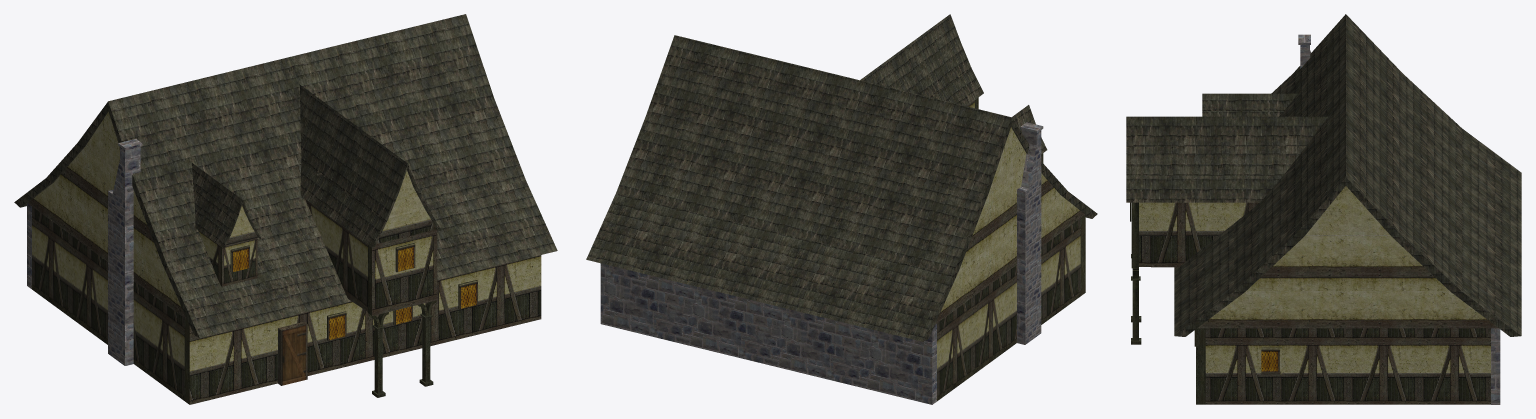
File: tavern.obj
3 views of the same model, side by side, from view 1: azimuth 30°, elevation 25°; view 2: azimuth 150°, elevation 25°; view 3: azimuth 270°, elevation 25° (orthographic). The views are drawn at different scales.
Visible parts, largest first — view 1: Mesh.097_Model_107, Mesh.104_Model_108, Mesh.105_Model_109, Mesh.096_Model_106, Mesh.125_Model_8, Mesh.006_Model_21, Mesh.118_Model_3, Mesh.011_Model_133, Mesh.064_Model_13, Mesh.059_Model_14, Mesh.121_Model_4, Mesh.058_Model_15 (+18 smaller); view 2: Mesh.117_Model_0, Mesh.116_Model_1, Mesh.119_Model_2, Mesh.005_Model_20, Mesh.125_Model_8, Mesh.118_Model_3, Mesh.011_Model_133, Mesh.121_Model_4, Mesh.064_Model_13, Mesh.059_Model_14, Mesh.120_Model_5, Mesh.058_Model_15 (+3 smaller); view 3: Mesh.017_Model_36, Mesh.116_Model_1, Mesh.119_Model_2, Mesh.117_Model_0, Mesh.123_Model_6, Mesh.097_Model_107, Mesh.122_Model_7, Mesh.062_Model_11, Mesh.007_Model_22, Mesh.104_Model_108, Mesh.065_Model_12, Mesh.105_Model_109 (+9 smaller).
Boxes of the visible parts, bbox=[...] form: Mesh.097_Model_107: bbox=[108, 14, 493, 185]; Mesh.104_Model_108: bbox=[132, 98, 525, 267]; Mesh.105_Model_109: bbox=[162, 180, 557, 337]; Mesh.096_Model_106: bbox=[184, 255, 541, 404]; Mesh.125_Model_8: bbox=[32, 207, 184, 399]; Mesh.006_Model_21: bbox=[368, 229, 437, 315]; Mesh.118_Model_3: bbox=[27, 183, 186, 319]; Mesh.011_Model_133: bbox=[108, 189, 133, 365]; Mesh.064_Model_13: bbox=[299, 84, 407, 192]; Mesh.059_Model_14: bbox=[300, 122, 398, 221]; Mesh.121_Model_4: bbox=[53, 147, 161, 261]; Mesh.058_Model_15: bbox=[300, 160, 386, 247]; Mesh.117_Model_0: bbox=[646, 35, 1011, 197]; Mesh.116_Model_1: bbox=[616, 116, 988, 274]; Mesh.119_Model_2: bbox=[586, 193, 958, 341]; Mesh.005_Model_20: bbox=[600, 263, 936, 404]; Mesh.125_Model_8: bbox=[937, 218, 1080, 400]; Mesh.118_Model_3: bbox=[935, 195, 1085, 324]; Mesh.011_Model_133: bbox=[1017, 180, 1041, 344]; Mesh.121_Model_4: bbox=[959, 167, 1060, 269]; Mesh.064_Model_13: bbox=[860, 14, 960, 88]; Mesh.059_Model_14: bbox=[896, 42, 971, 97]; Mesh.120_Model_5: bbox=[989, 127, 1026, 191]; Mesh.058_Model_15: bbox=[932, 68, 983, 106]; Mesh.017_Model_36: bbox=[1205, 328, 1490, 404]; Mesh.116_Model_1: bbox=[1392, 73, 1461, 292]; Mesh.119_Model_2: bbox=[1451, 128, 1521, 336]; Mesh.117_Model_0: bbox=[1346, 14, 1402, 236]; Mesh.123_Model_6: bbox=[1197, 291, 1498, 328]; Mesh.097_Model_107: bbox=[1293, 14, 1345, 236]; Mesh.122_Model_7: bbox=[1246, 235, 1448, 290]; Mesh.062_Model_11: bbox=[1126, 116, 1327, 146]; Mesh.007_Model_22: bbox=[1139, 202, 1258, 267]; Mesh.104_Model_108: bbox=[1234, 73, 1303, 292]; Mesh.065_Model_12: bbox=[1126, 146, 1305, 175]; Mesh.105_Model_109: bbox=[1174, 224, 1244, 336].
Size of the model in its own units: 35.23 by 23.05 by 35.21.
14 materials, 14 textured.
